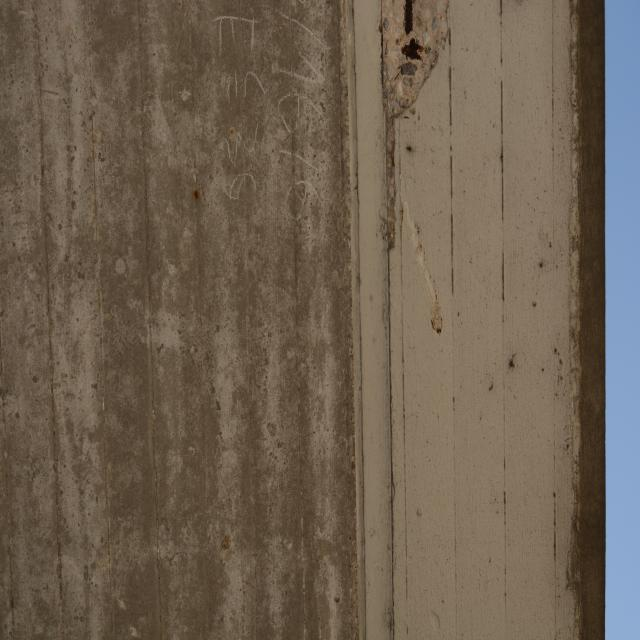corrosion: (398, 0, 428, 66), (220, 531, 233, 552), (192, 188, 202, 204), (385, 154, 395, 169), (229, 125, 235, 139), (349, 458, 355, 471), (406, 146, 412, 153)
